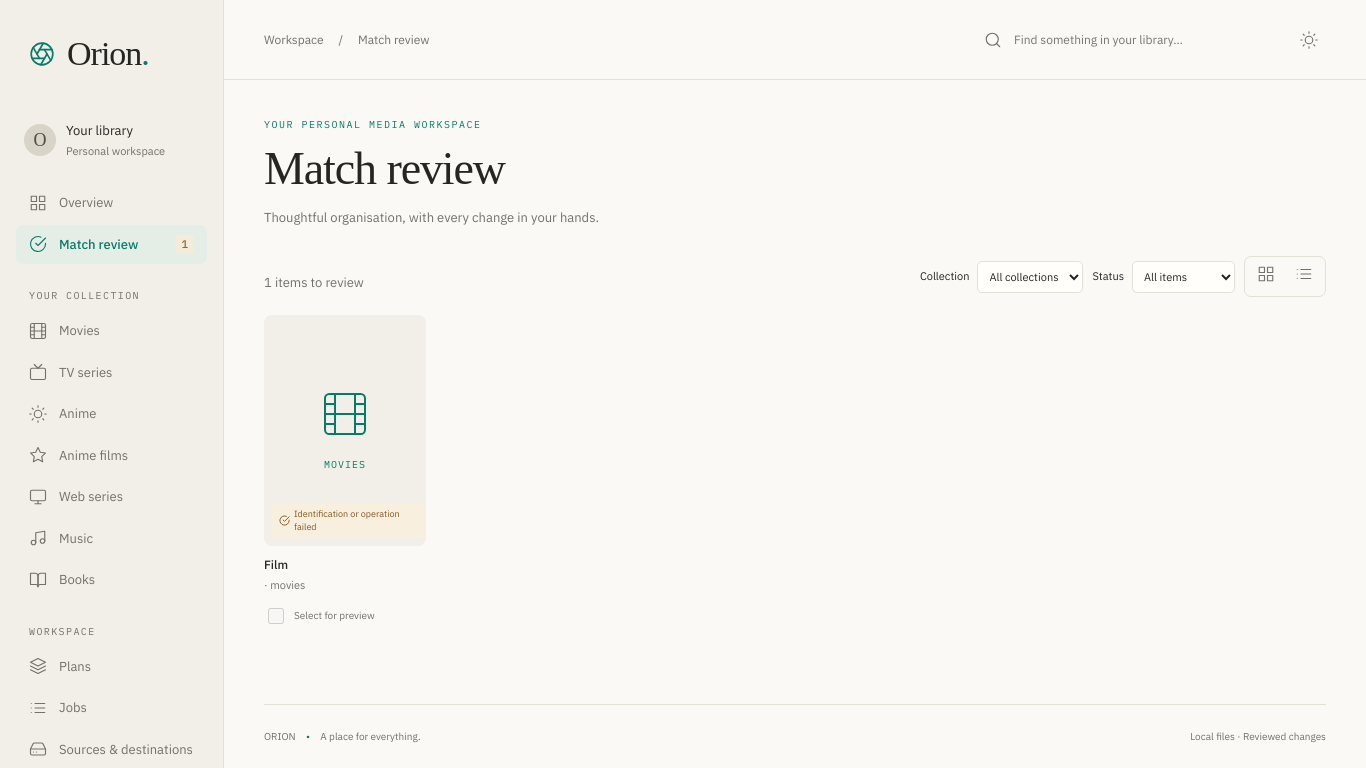
Test: item review shows the paths that need manual recovery
Click the button with aria-label "Review Film". click: click(345, 454)
box: [264,315,426,593]
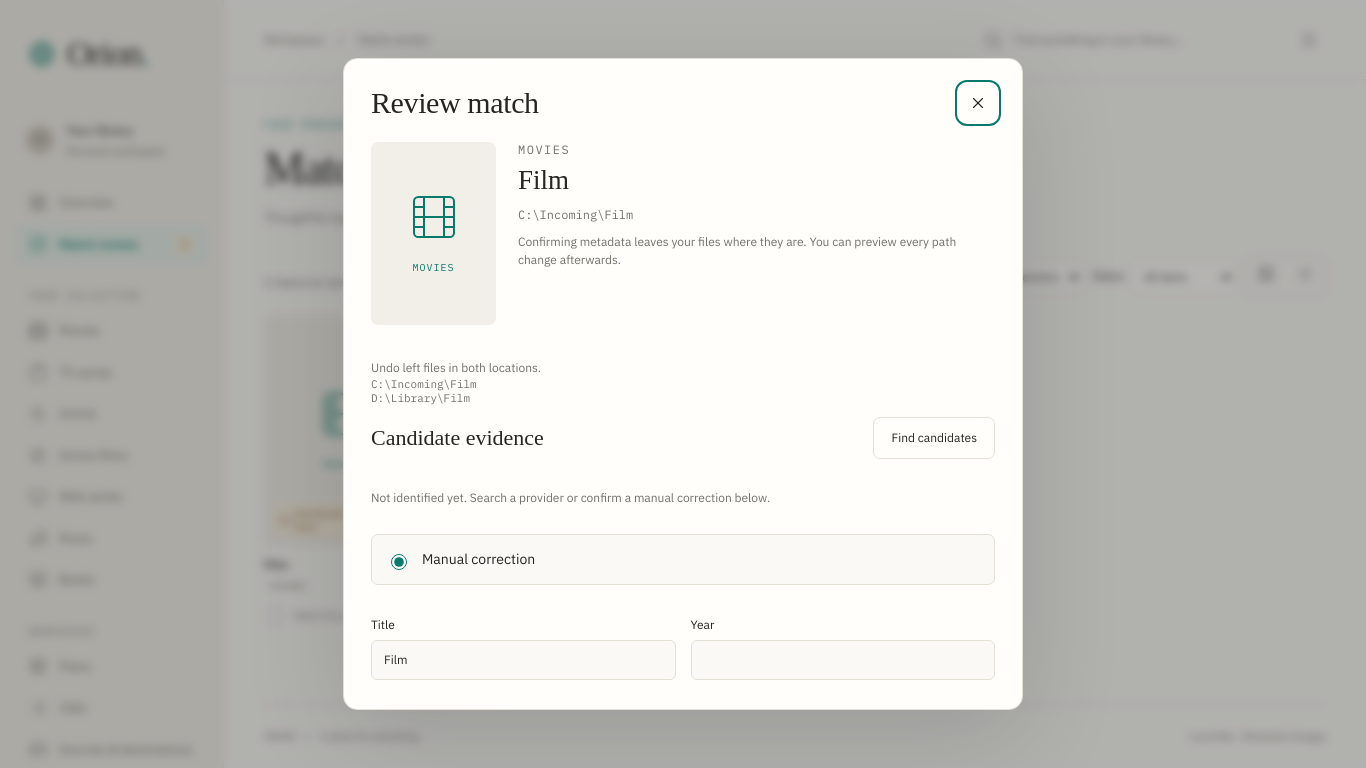
Result: the message shows "Undo left files in both locations." at [371,360,541,375]
Result: the text "D:\\Library\\Film" is shown at [371,391,470,405]
